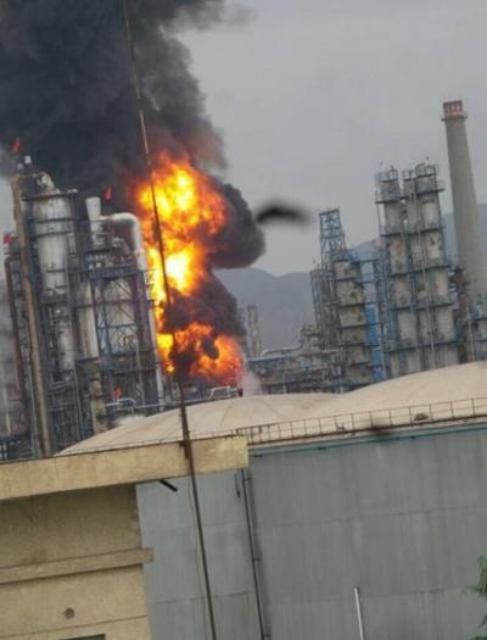fire: (136, 167, 222, 236), (156, 322, 240, 381), (148, 238, 199, 298)
